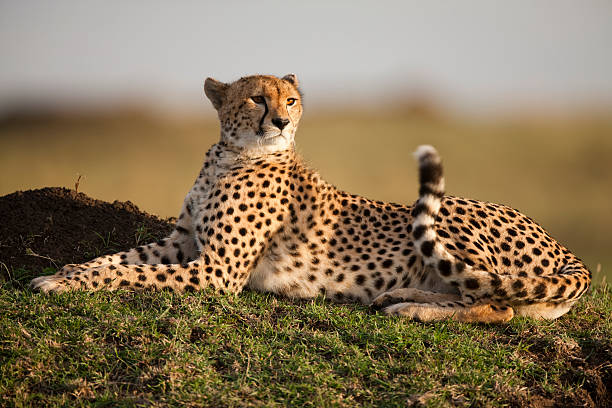cheetah: (194, 66, 313, 167)
